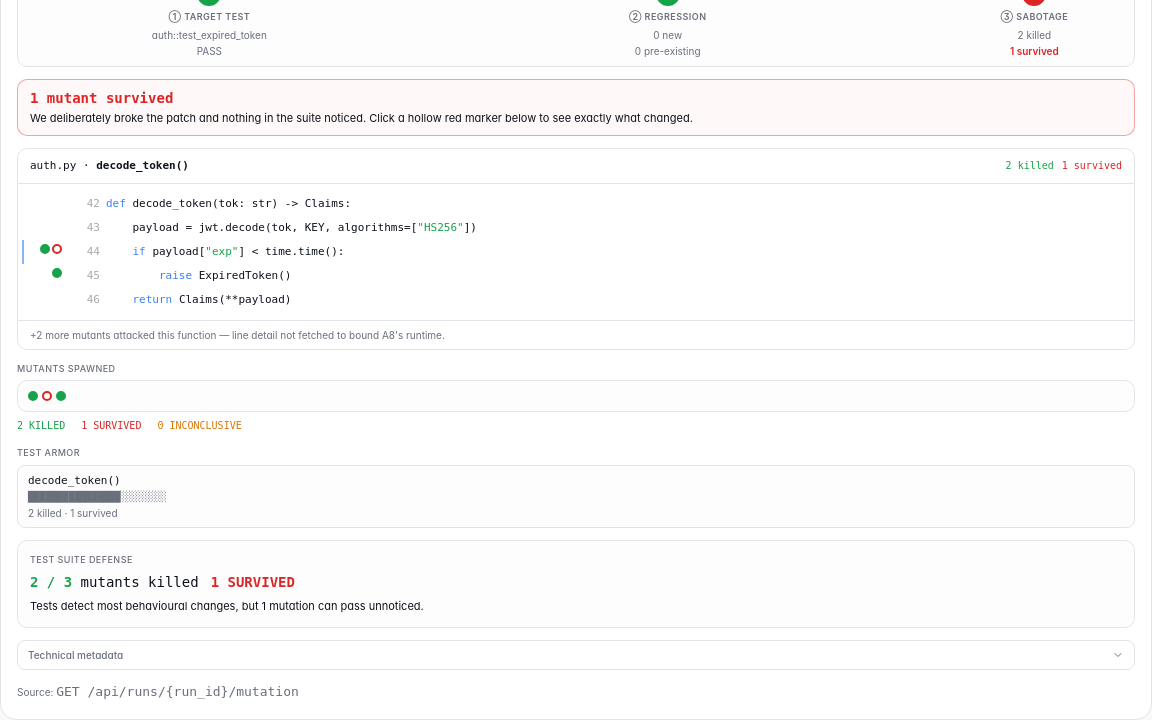
it: MutationValidationPanel › keeps the mutation score and correctness gate as demoted technical metadata, not the headline
This screenshot has width=1152, height=720.
(page scrolled)
Expected: the text "Test suite defense" is shown, [30, 554, 133, 565]
Click the button "Technical metadata": x=76, y=655 [18, 641, 1134, 669]
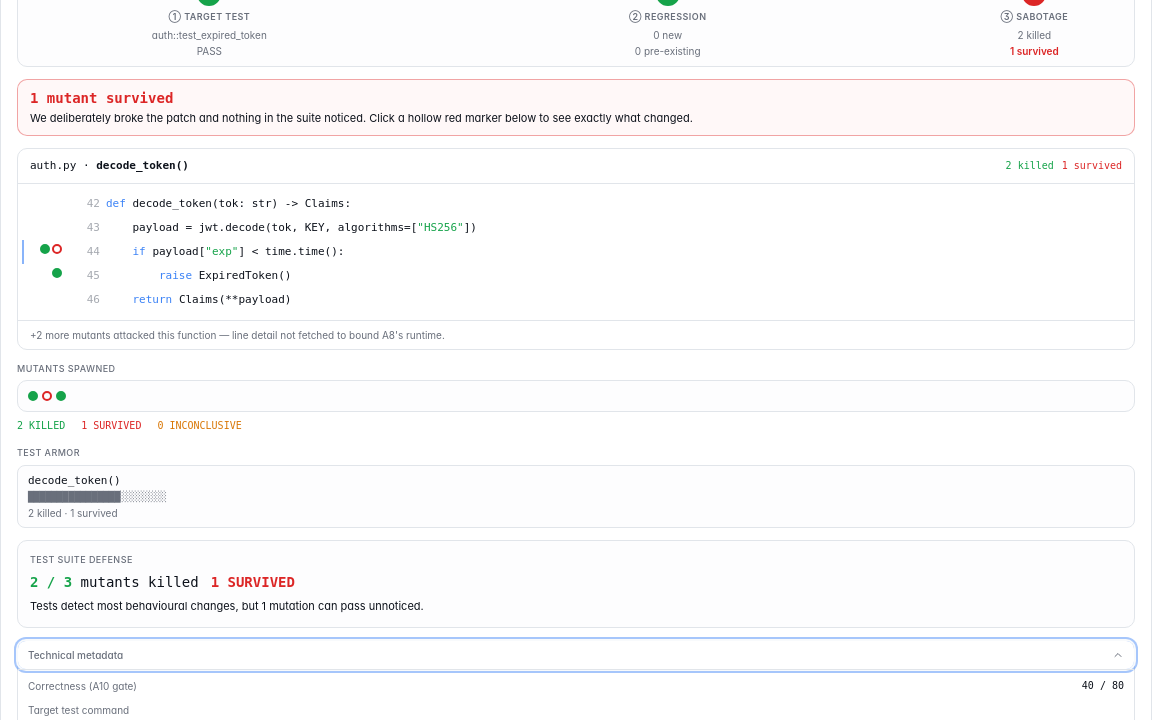
Now the text "40 / 80" is shown, box [1082, 678, 1124, 694]
